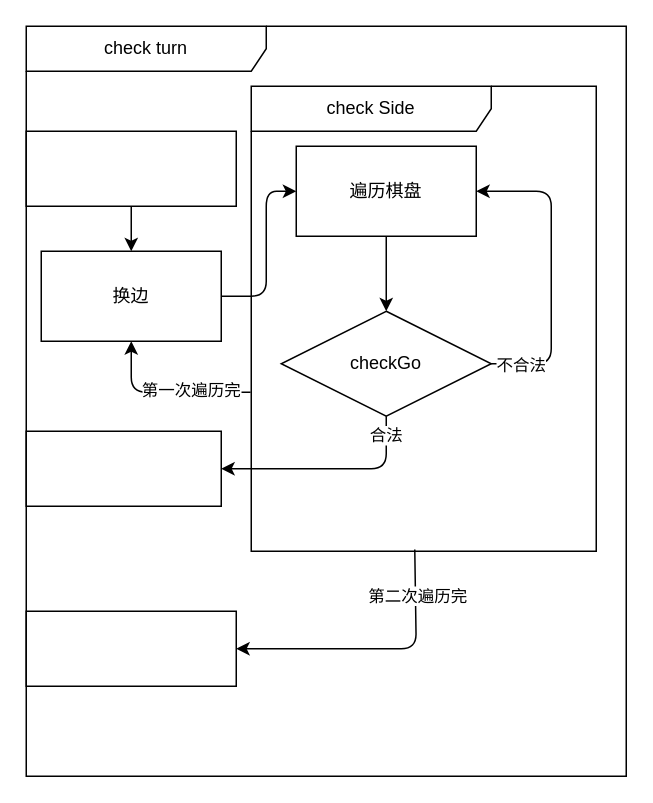
This 653x803 diagram has some shape labels left out. Here are the shapes that lost their labels. From the top down, the centre of each, then its label:
the point at 130,168: start
the point at 123,468: exit : true 游戏继续
the point at 130,648: exit ：false 游戏结束
